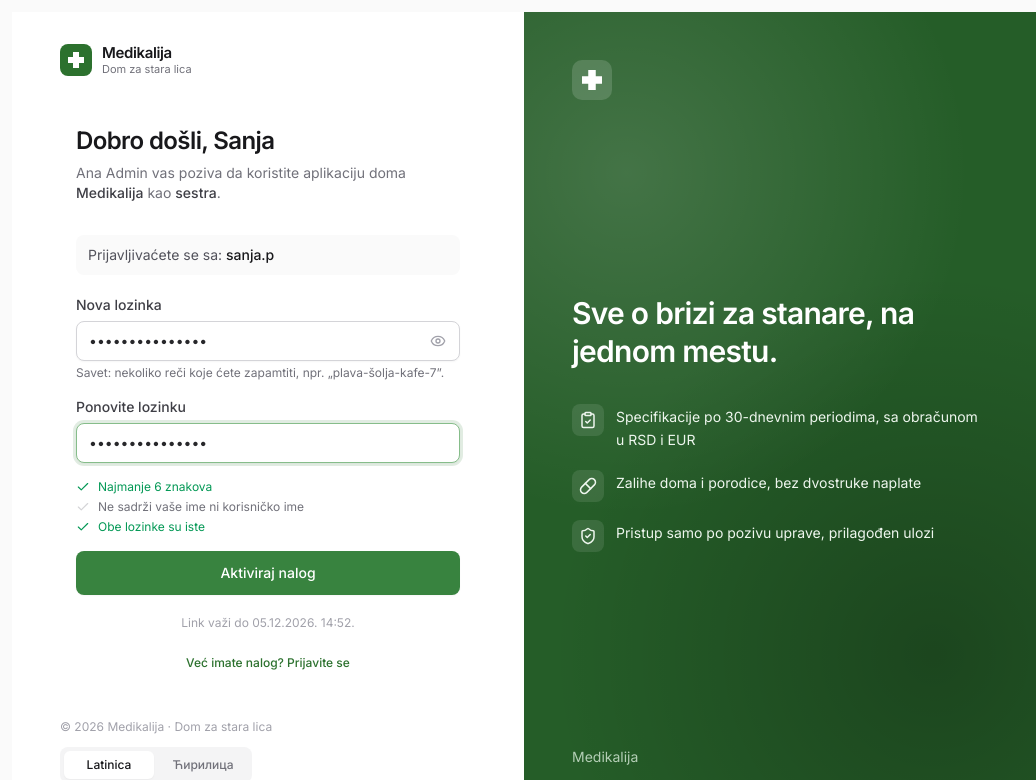
Test: prihvatanje pozivnice › prikazuje ko poziva; lozinka ne sme da sadrži ime; aktivira i prijavljuje
The image size is (1036, 780).
Earlier steps of the test are not shown.
Click the button "Aktiviraj nalog" at (268, 572), box [76, 550, 460, 594]
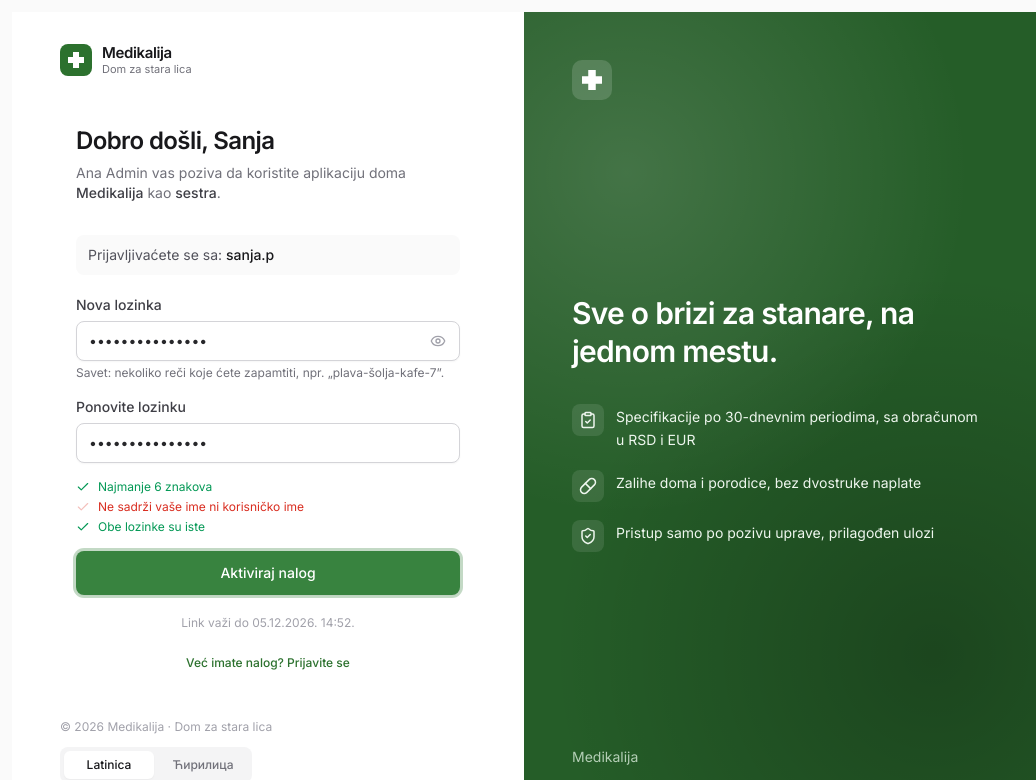
Clear the password field labelled "Nova lozinka" at (268, 340), box [76, 320, 460, 360]
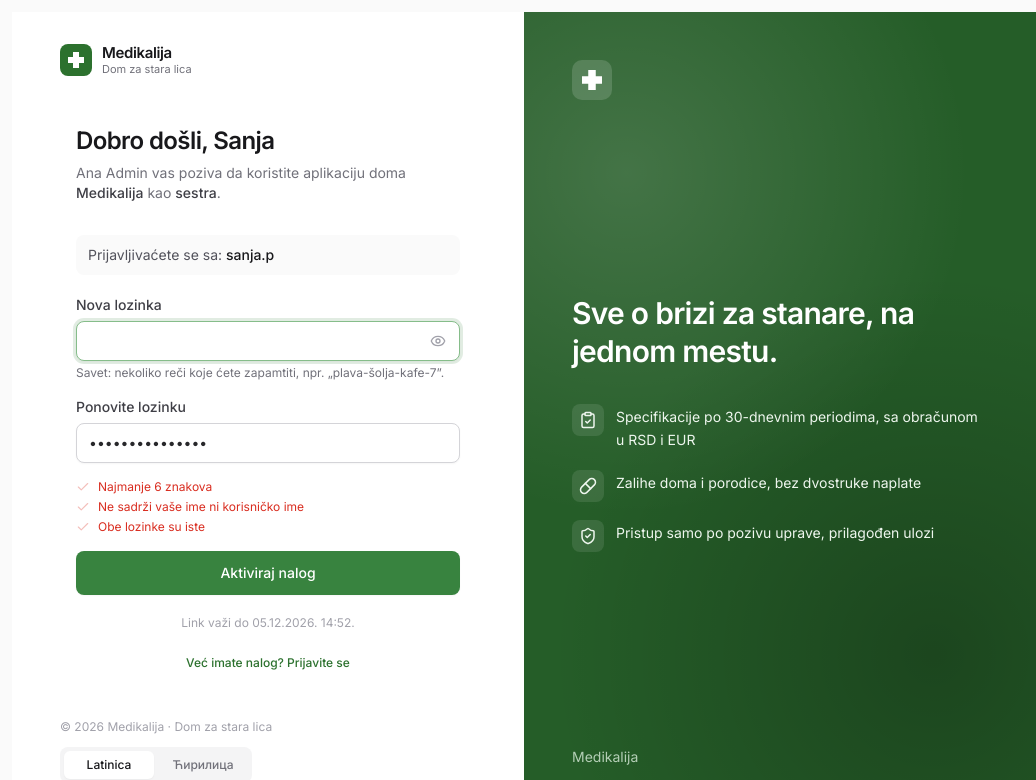
Clear the password field labelled "Ponovite lozinku" at (268, 442), box [76, 422, 460, 462]
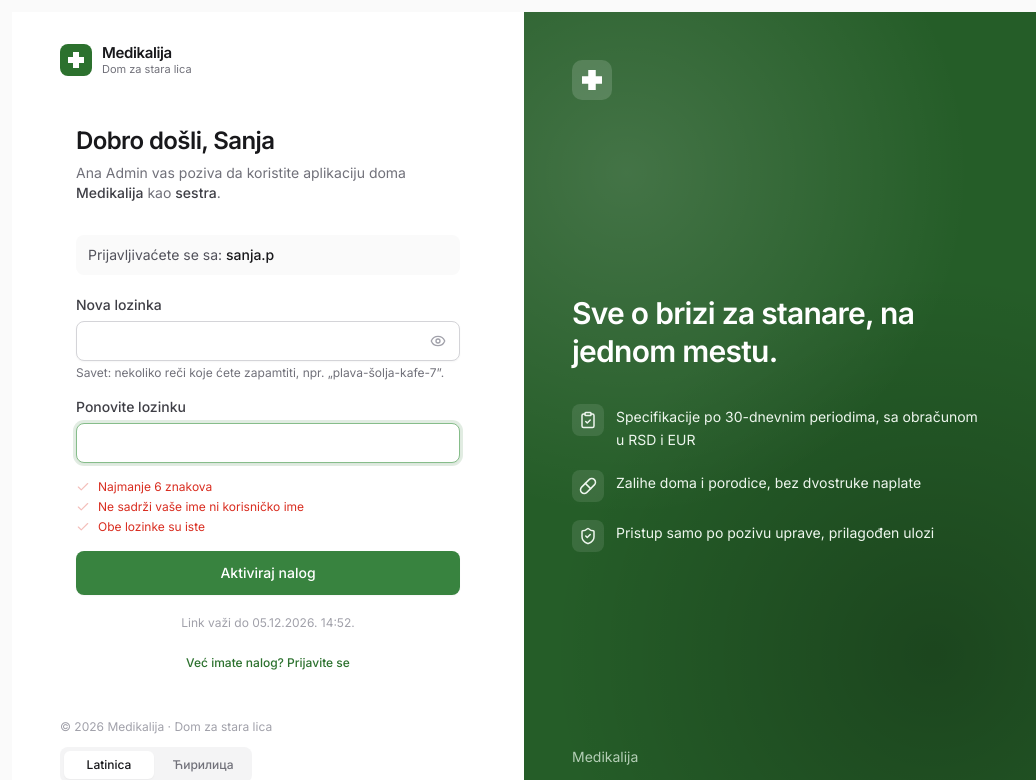
Type "plava-solja-kafe-7" into the password field labelled "Nova lozinka" at (268, 340), box [76, 320, 460, 360]
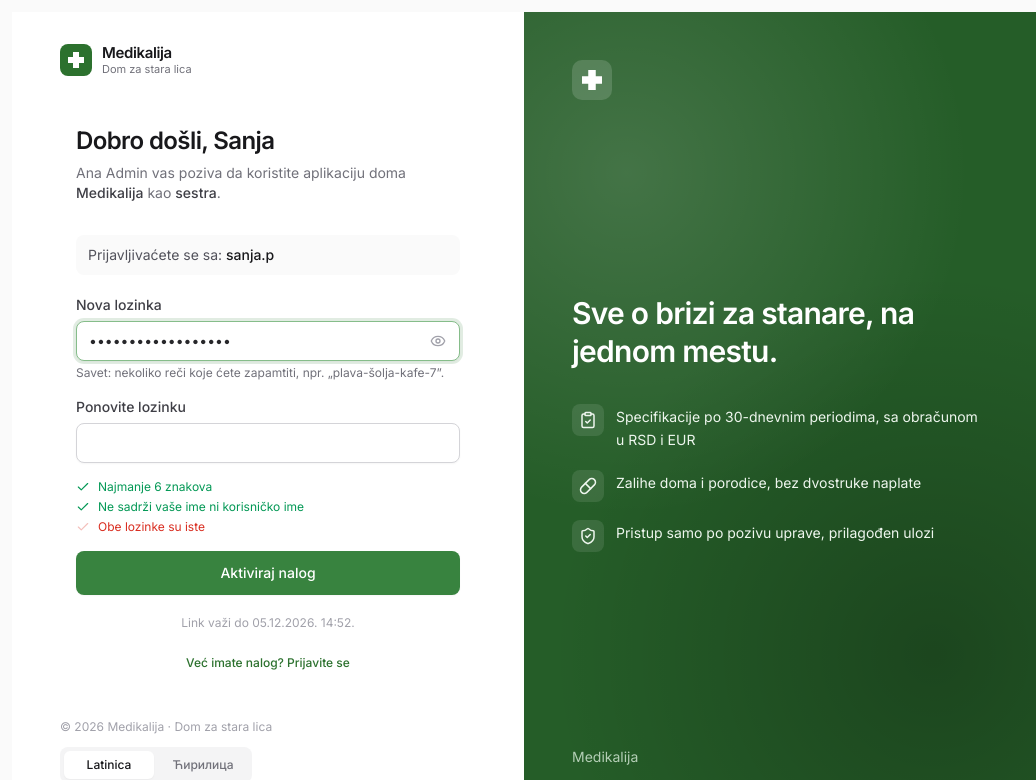
Type "plava-solja-kafe-7" into the password field labelled "Ponovite lozinku" at (268, 442), box [76, 422, 460, 462]
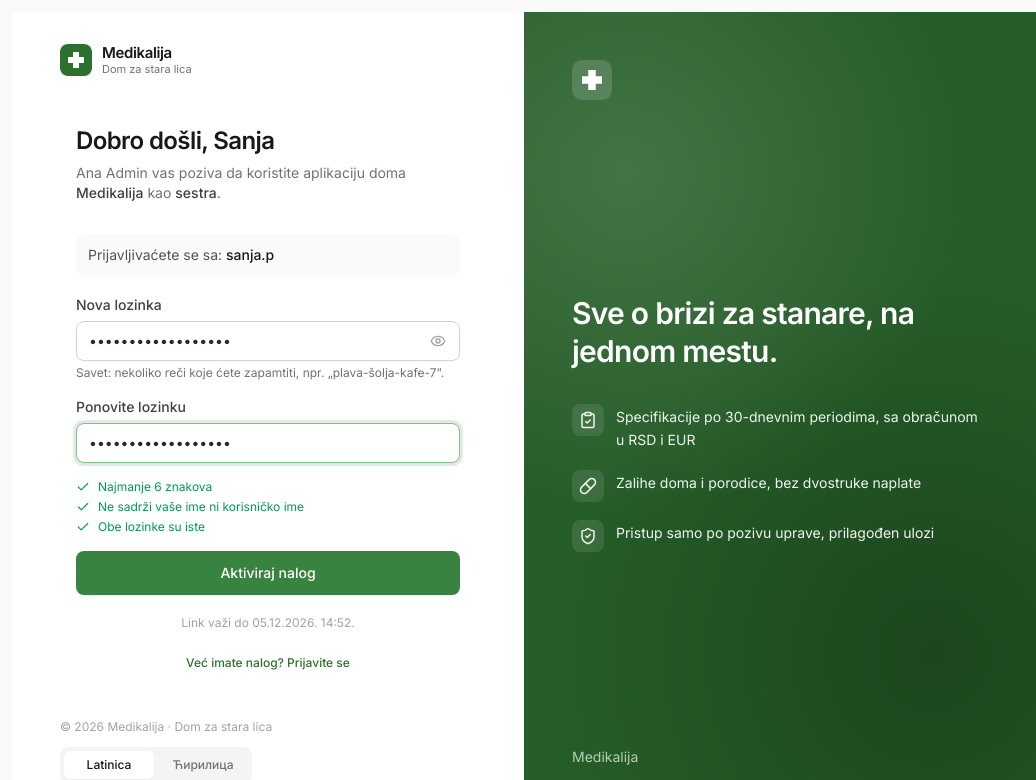
Click the button "Aktiviraj nalog" at (268, 572), box [76, 550, 460, 594]
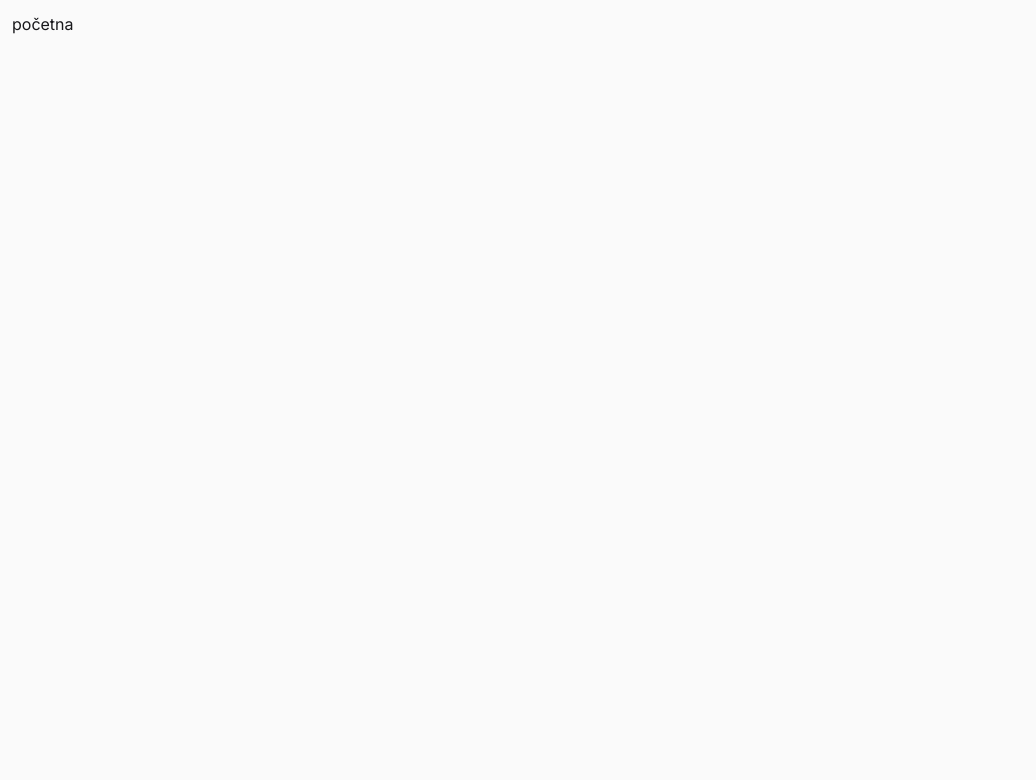
Now the text "početna" is shown, box [12, 14, 74, 34]
